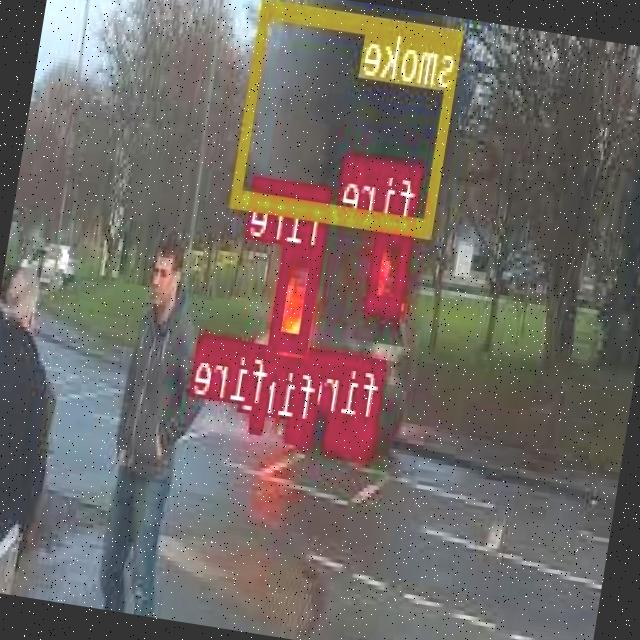fire: (271, 244, 324, 350), (367, 221, 415, 312), (327, 414, 378, 451), (286, 417, 316, 441), (250, 403, 268, 430)
smoke: (232, 0, 465, 236)
